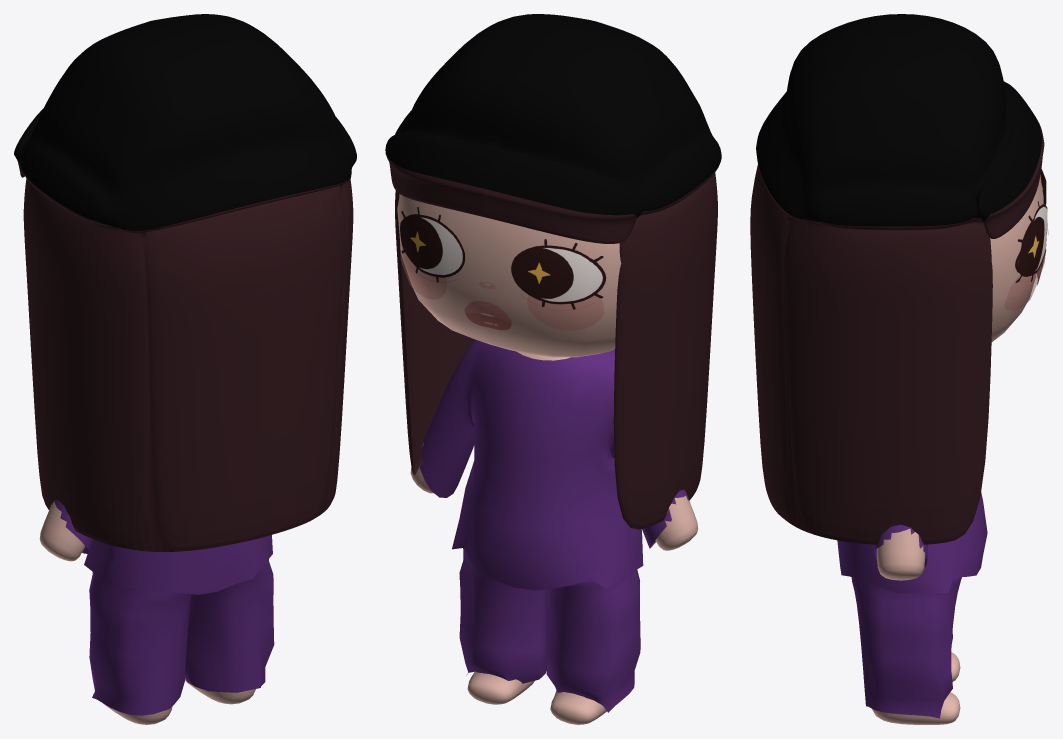
The model's file is character.glb.
3 views of the same model, side by side, from view 1: azimuth 30°, elevation 25°; view 2: azimuth 150°, elevation 25°; view 3: azimuth 270°, elevation 25° (orthographic). The views are drawn at different scales.
Parts seen in each view (by area): view 1: Cube.004, Cube.002, Cube.001, Cube; view 2: Cube.004, Cube.001, Cube, Cube.002, Cube.003; view 3: Cube.004, Cube.002, Cube, Cube.001, Cube.003.
Part boxes in pixels (x1,y1,x2,y2): Cube.004: [14, 14, 356, 551]; Cube.002: [89, 559, 274, 715]; Cube.001: [52, 500, 272, 594]; Cube: [39, 501, 255, 724]; Cube.004: [385, 14, 721, 529]; Cube.001: [420, 339, 689, 590]; Cube: [397, 194, 698, 724]; Cube.002: [459, 547, 640, 712]; Cube.003: [400, 207, 606, 330]; Cube.004: [750, 14, 1044, 544]; Cube.002: [851, 577, 961, 718]; Cube: [872, 177, 1043, 724]; Cube.001: [837, 492, 987, 592]; Cube.003: [1004, 168, 1048, 310].
Bounding box in the file's own units: 1.91 × 4.32 × 1.75.
Materials: 5 (1 with a texture image).
